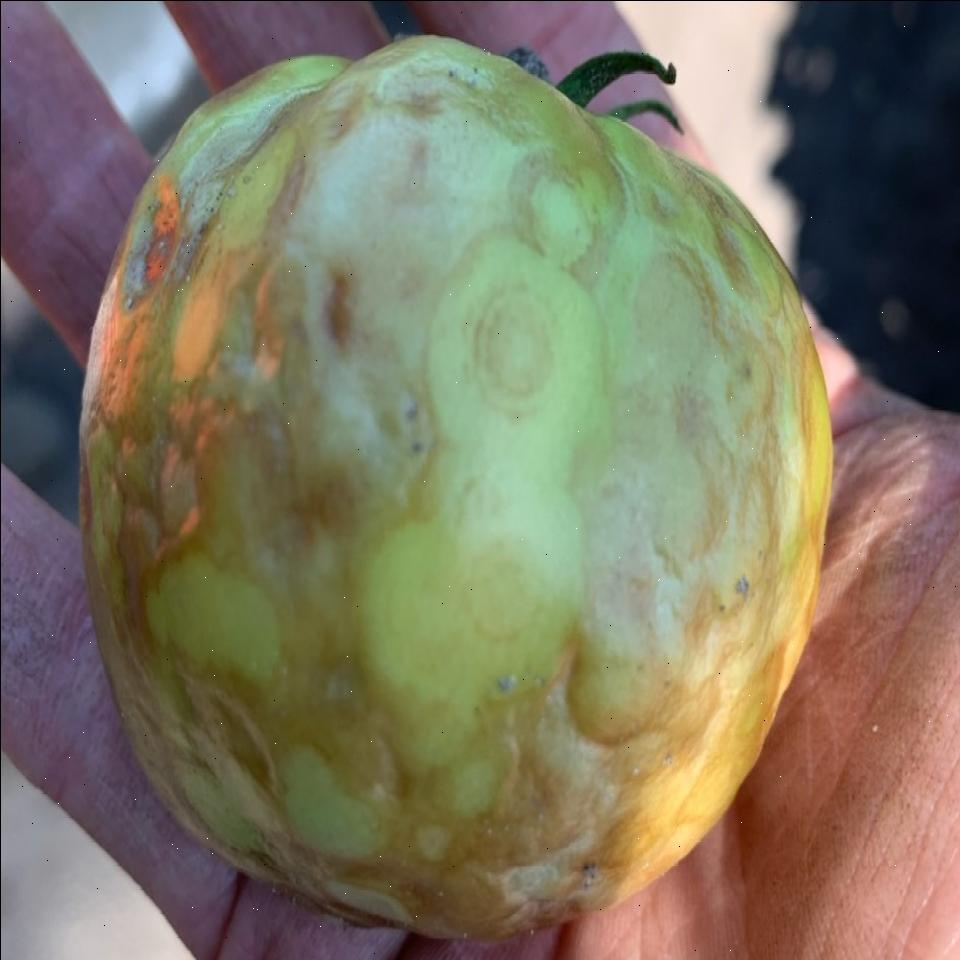Spotted wilt Virus: (79, 35, 832, 943)
